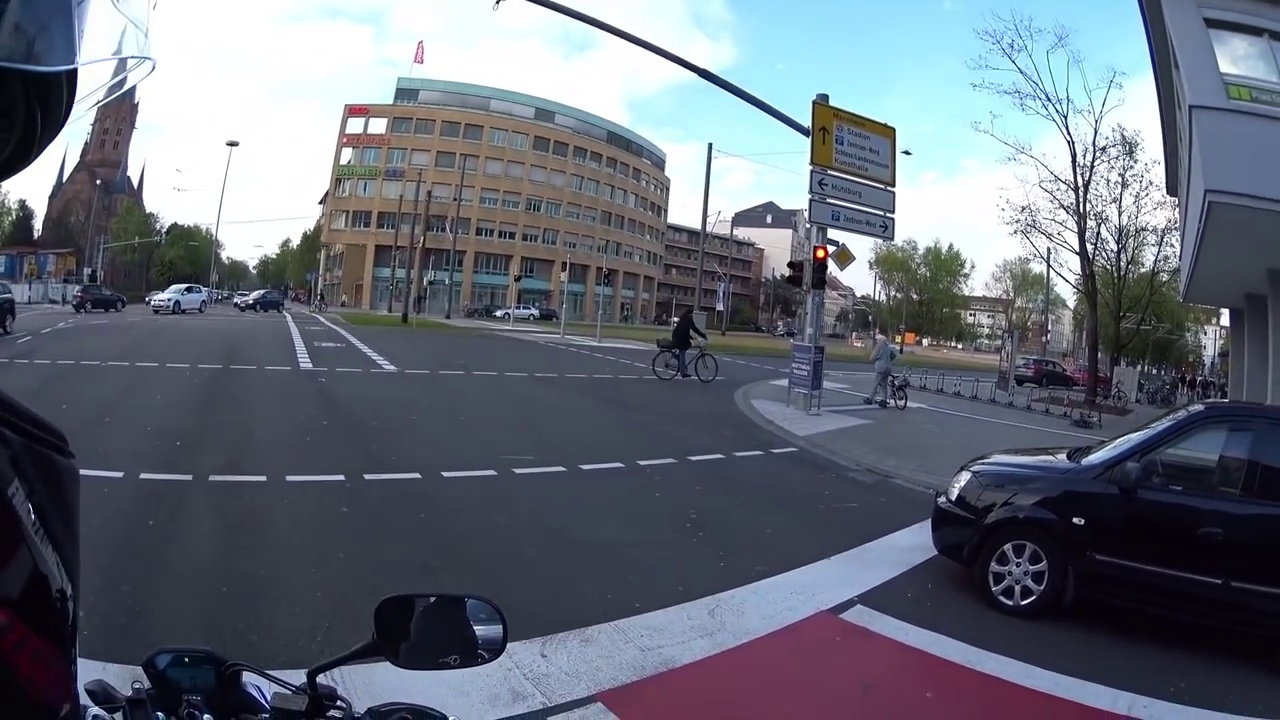cyclist_side: (642, 311, 726, 382)
